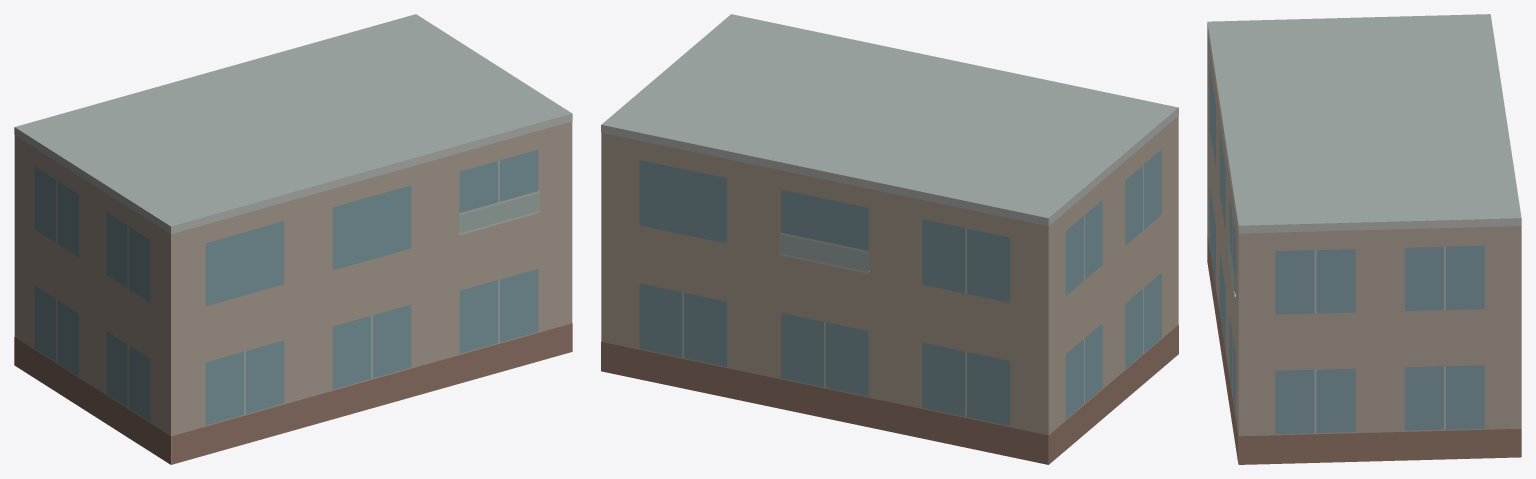
The model's file is survey-upis-32619311.glb.
3 views of the same model, side by side, from view 1: azimuth 30°, elevation 25°; view 2: azimuth 150°, elevation 25°; view 3: azimuth 270°, elevation 25° (orthographic). The views are drawn at different scales.
Parts seen in each view (by area): view 1: survey-upis-32619311.tmp; view 2: survey-upis-32619311.tmp; view 3: survey-upis-32619311.tmp.
Boxes of the visible parts, x1,y1,x2,y2 form: survey-upis-32619311.tmp: (14,14,572,464); survey-upis-32619311.tmp: (601,14,1178,464); survey-upis-32619311.tmp: (1207,14,1521,464).
Size of the model in its own units: 14.25 by 7.5 by 8.94.
